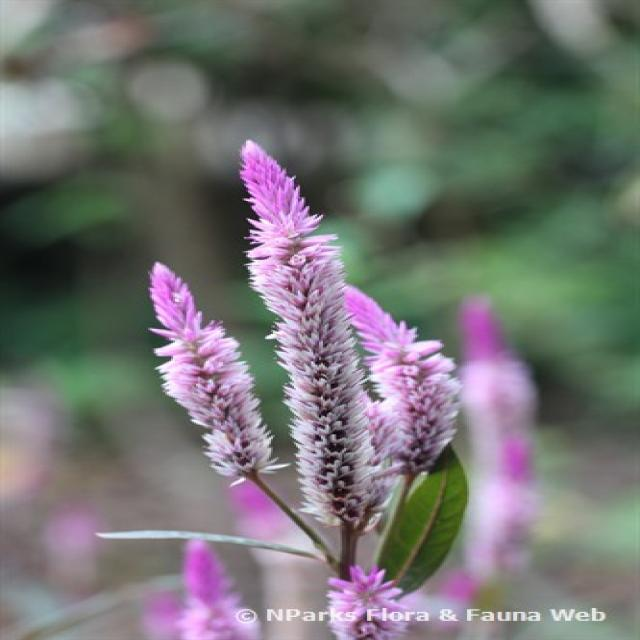Celosia-Argentea: (144, 138, 463, 528)
